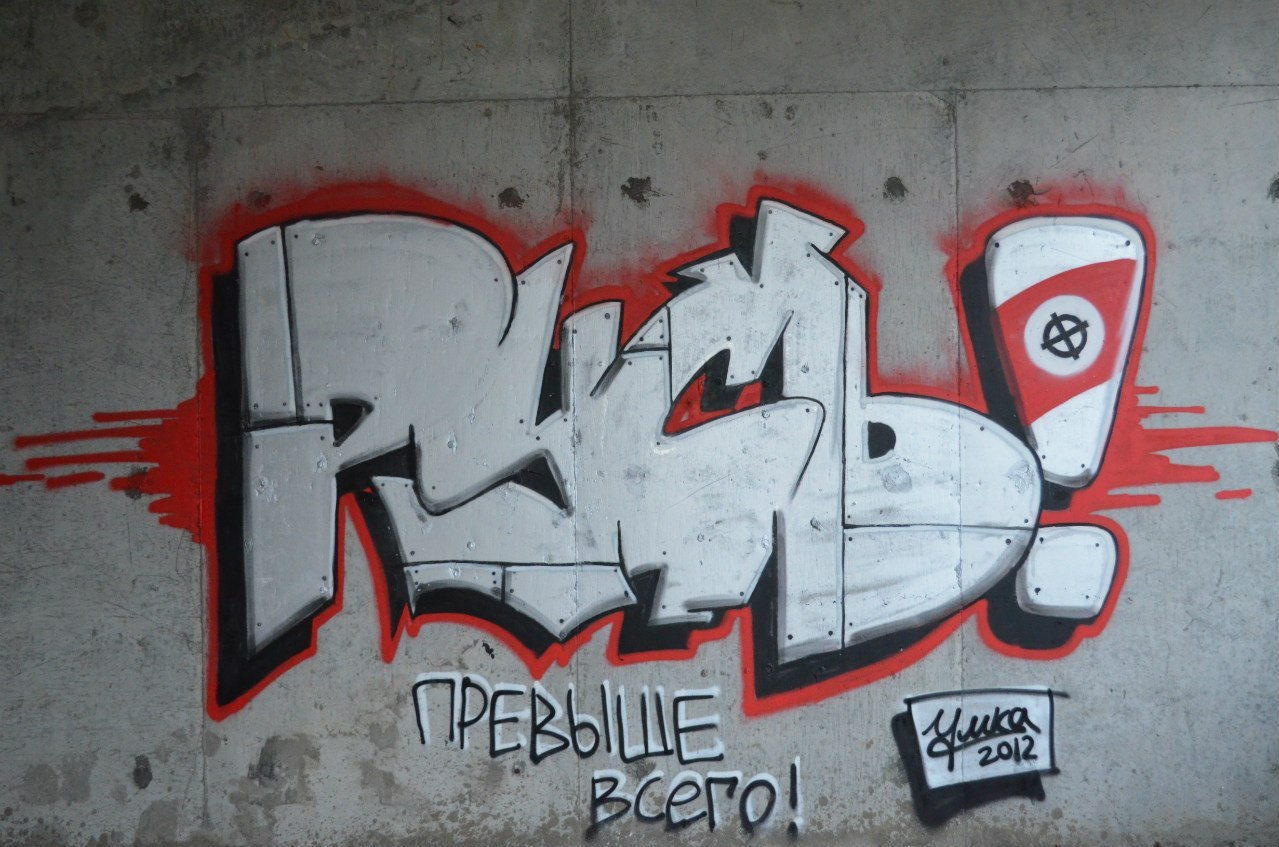graphite: (1, 161, 1279, 680), (412, 666, 818, 836), (896, 686, 1095, 810)
